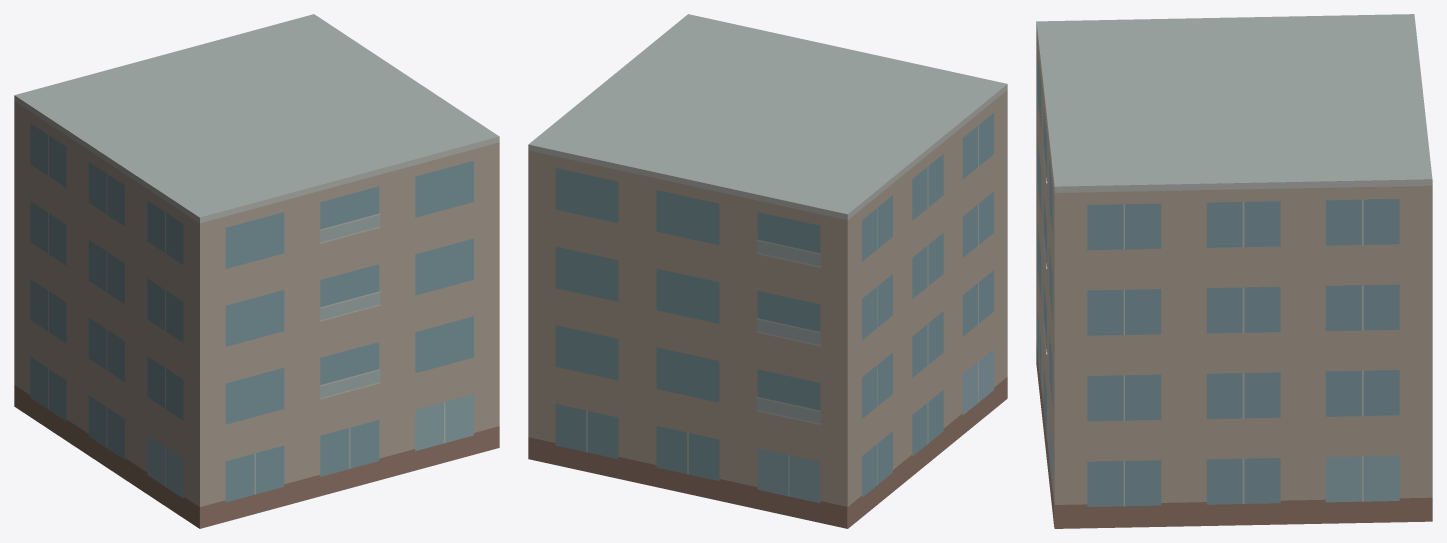
File: survey-upis-32778900.glb
3 views of the same model, side by side, from view 1: azimuth 30°, elevation 25°; view 2: azimuth 150°, elevation 25°; view 3: azimuth 270°, elevation 25° (orthographic). The views are drawn at different scales.
Visible parts, largest first — view 1: survey-upis-32778900.tmp; view 2: survey-upis-32778900.tmp; view 3: survey-upis-32778900.tmp.
Part boxes in pixels (x1,y1,x2,y2): survey-upis-32778900.tmp: (14, 14, 499, 528); survey-upis-32778900.tmp: (528, 14, 1007, 528); survey-upis-32778900.tmp: (1036, 14, 1432, 528).
Size of the model in its own units: 14.19 by 13.11 by 13.76.
